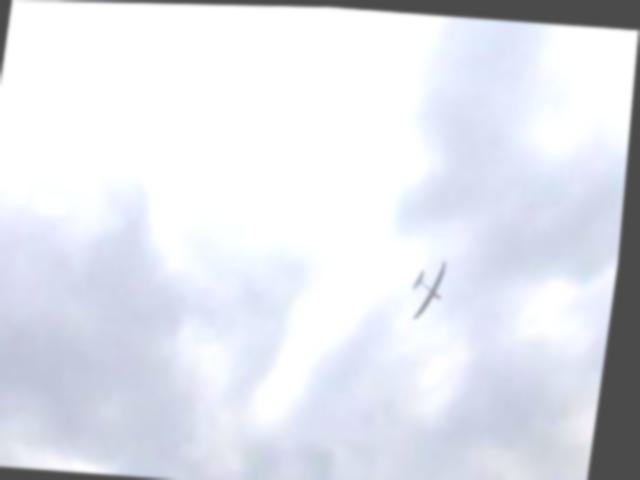uav: (405, 248, 460, 325)
